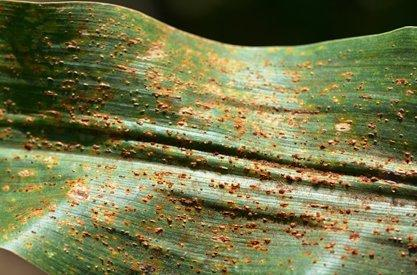Corn_Common_Rust: (0, 0, 415, 275)
